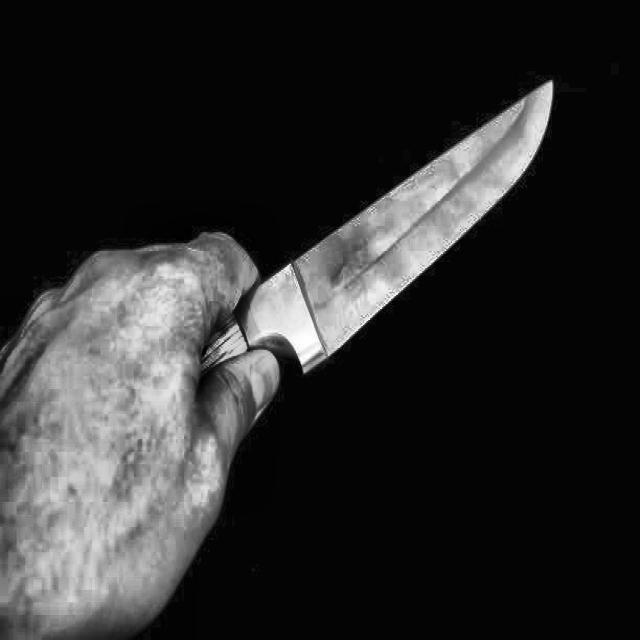pisau: (0, 79, 559, 638)
